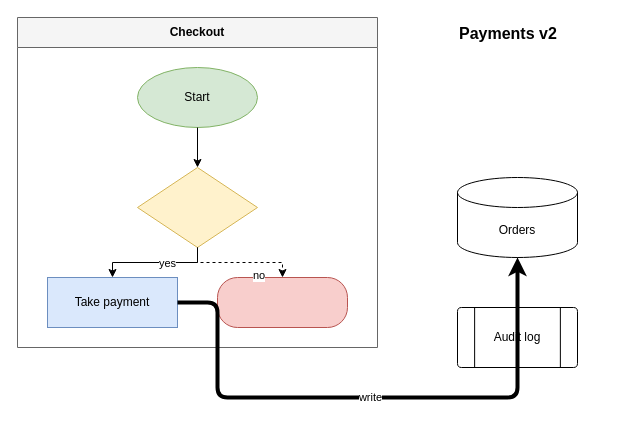
The diagram is 635 pixels wide and 425 high, and some of its shapes have lost their labels. The centre of each missing label's shape, as x and y in pixels:
"Card valid?" goes at (x=197, y=207).
"Reject" goes at (x=282, y=302).
